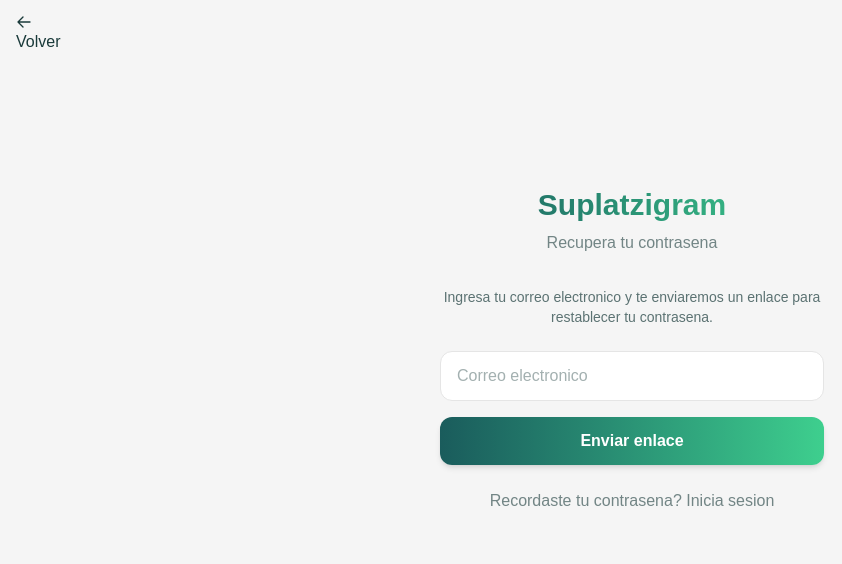
Test: ForgotPasswordPage › Form Submission - Success › shows success message after successful submission
Type "test@example.com" into the field with placeholder "Correo electronico" at (632, 376), box [440,351,824,401]
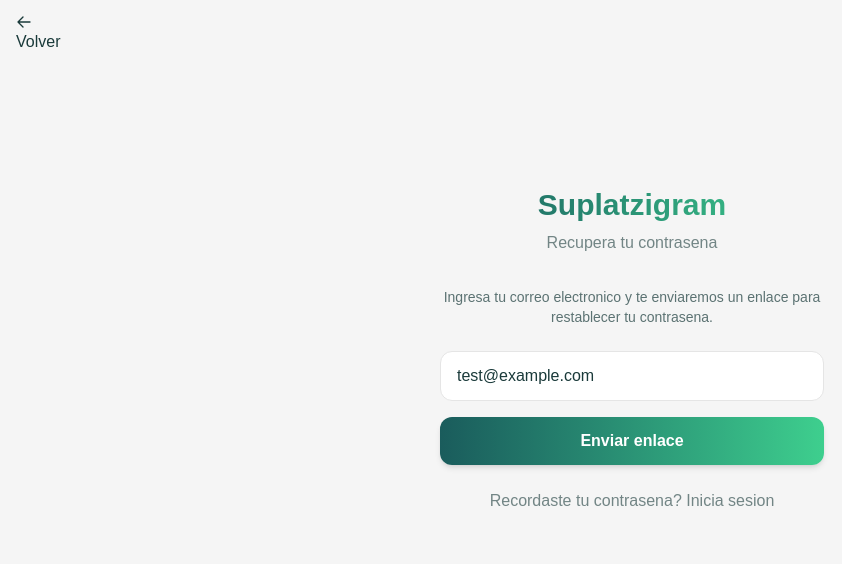
Click the button "Enviar enlace" at (632, 441), box [440,417,824,465]
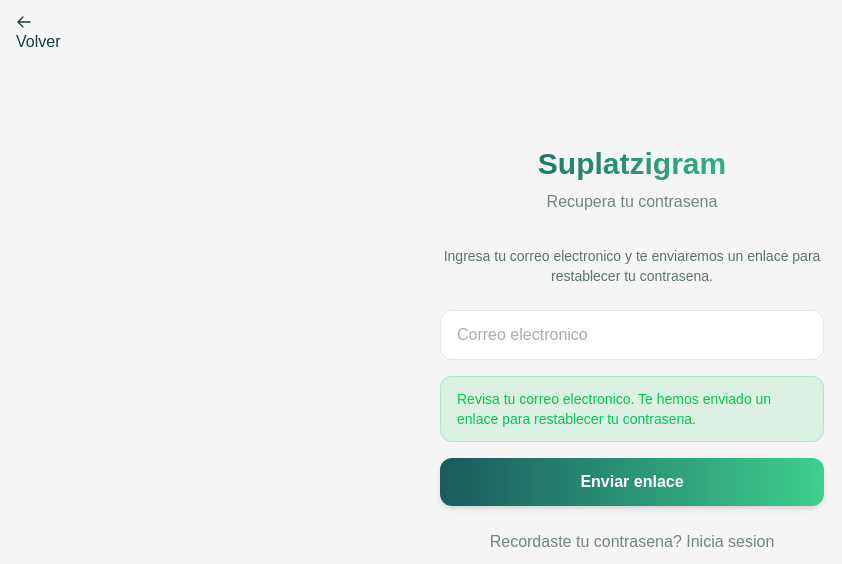
Now the text "Revisa tu correo electronico" is shown, box [457,391,771,427]
